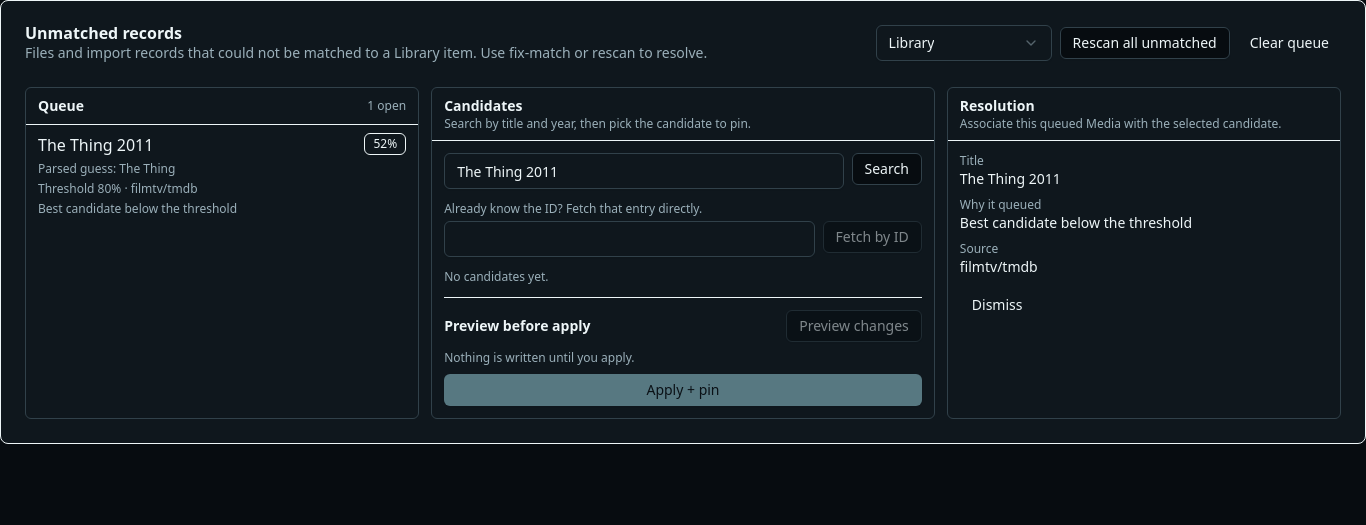
Test: UnmatchedPage › fetches a pasted provider ID as an unscored candidate
This screenshot has width=1366, height=525.
Check: the text "The Thing 2011" is shown 2 times, box [38, 133, 153, 157]; [960, 169, 1061, 188]
Type "tt0084787" into the field named "Paste a provider ID" at (629, 239), box [444, 221, 815, 257]
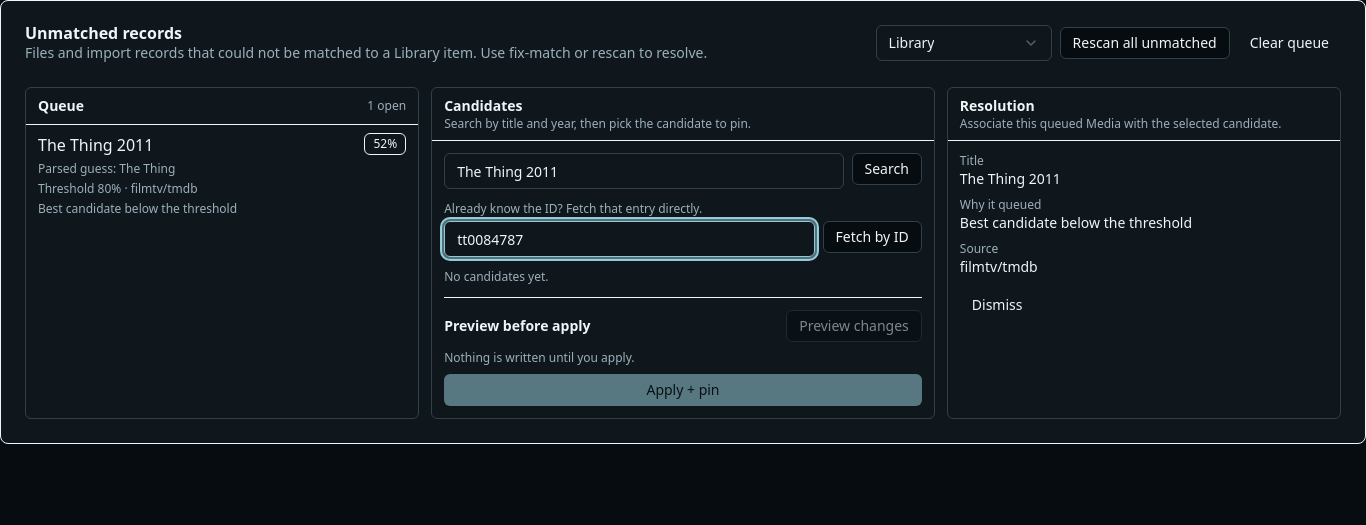
Click the button "Fetch by ID" at (872, 237), box [822, 221, 922, 253]
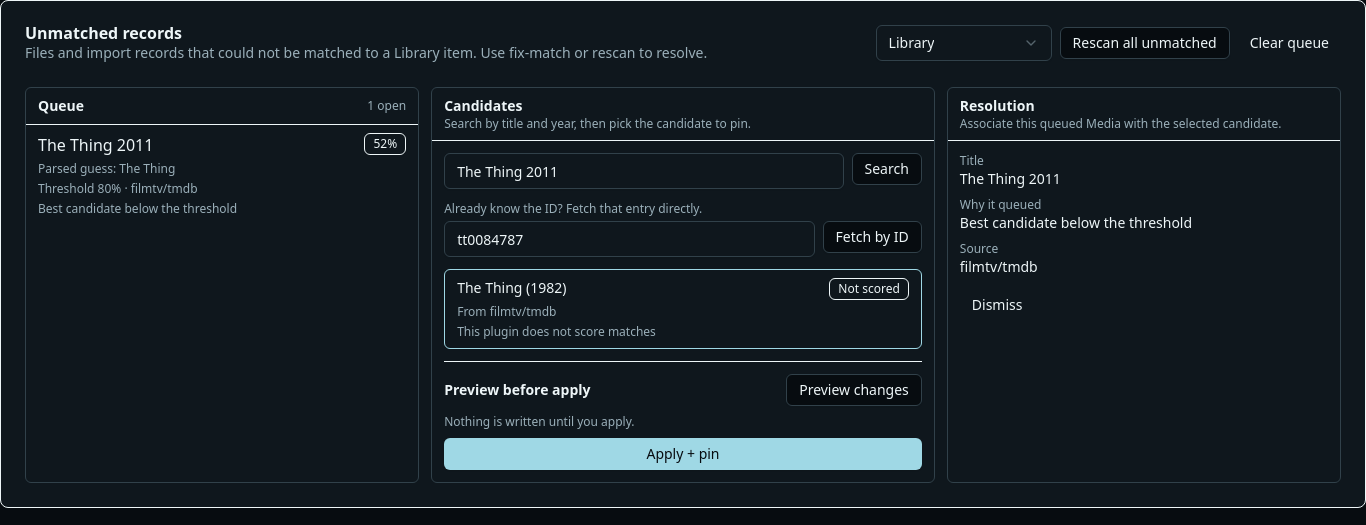
Check: the text "Not scored" is shown, box [829, 278, 909, 300]
Check: the text "This plugin does not score matches" is shown, box [457, 323, 656, 340]
